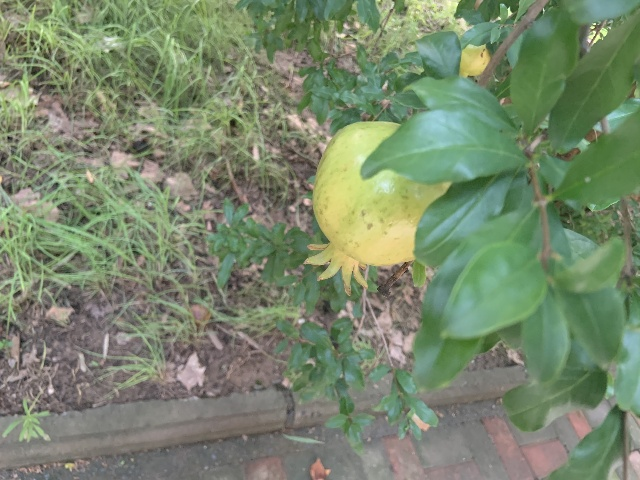mid-growth: (302, 120, 450, 296), (458, 43, 490, 78)
